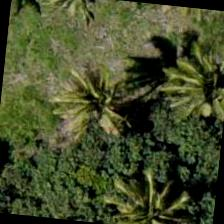Kelapa_Sawit: (51, 53, 150, 152), (149, 39, 223, 138), (101, 169, 198, 223), (11, 0, 107, 49)
